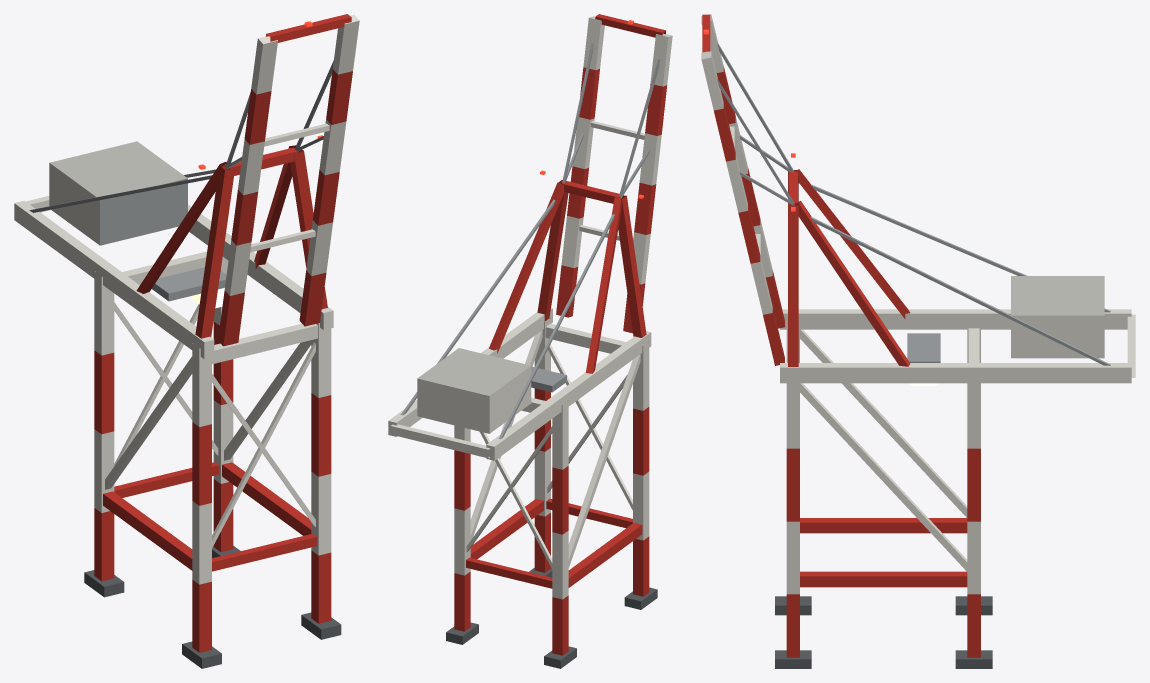
Rendered from tokyo_container_crane.glb.
The picture shows the model from 3 angles, left to right: view 1: azimuth 30°, elevation 25°; view 2: azimuth 150°, elevation 25°; view 3: azimuth 270°, elevation 25°; orthographic projection. The views are drawn at different scales.
Visible parts, largest first — view 1: tokyo_container_crane; view 2: tokyo_container_crane; view 3: tokyo_container_crane.
Part boxes in pixels (x1=…): tokyo_container_crane: x1=14, y1=14, x2=359, y2=668; tokyo_container_crane: x1=388, y1=14, x2=672, y2=668; tokyo_container_crane: x1=701, y1=14, x2=1135, y2=668.
Size of the model in its own units: 22.2 by 100 by 64.83.
1 material, 1 textured.
